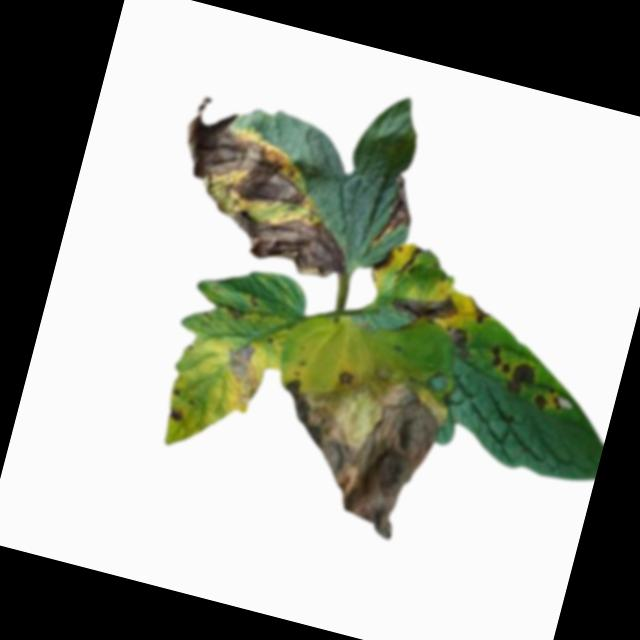Early_blight: (246, 345, 455, 548), (174, 91, 340, 215), (195, 187, 356, 286), (214, 336, 268, 409), (387, 282, 460, 331), (377, 173, 422, 246), (441, 324, 481, 361), (504, 358, 539, 397), (372, 239, 405, 277), (530, 386, 566, 414), (464, 296, 496, 327), (485, 344, 514, 375), (221, 299, 251, 322), (166, 403, 189, 426)
